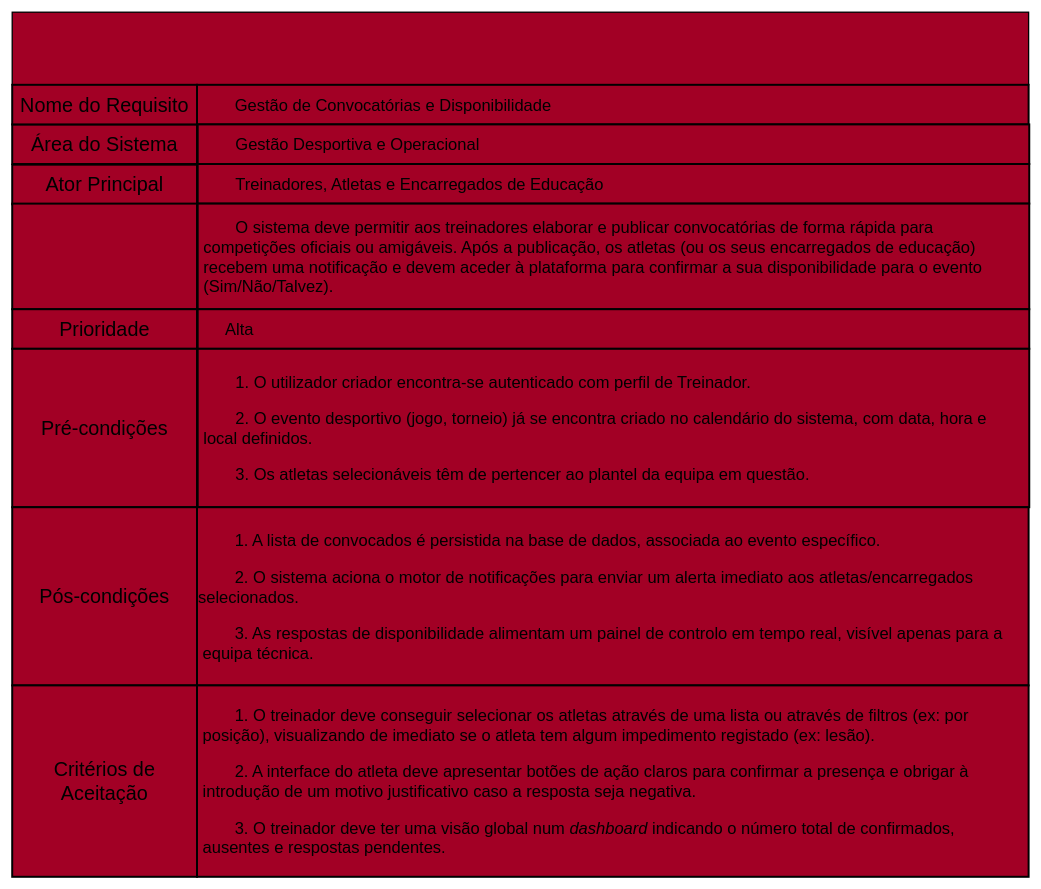
The diagram is 1041 pixels wide and 889 high, and some of its shapes have lost their labels. The box of each missing label's shape, as (x1, y1, x2, y2) in pixels:
Descrição: (11, 202, 198, 310)
RF-08: (11, 11, 1029, 85)
